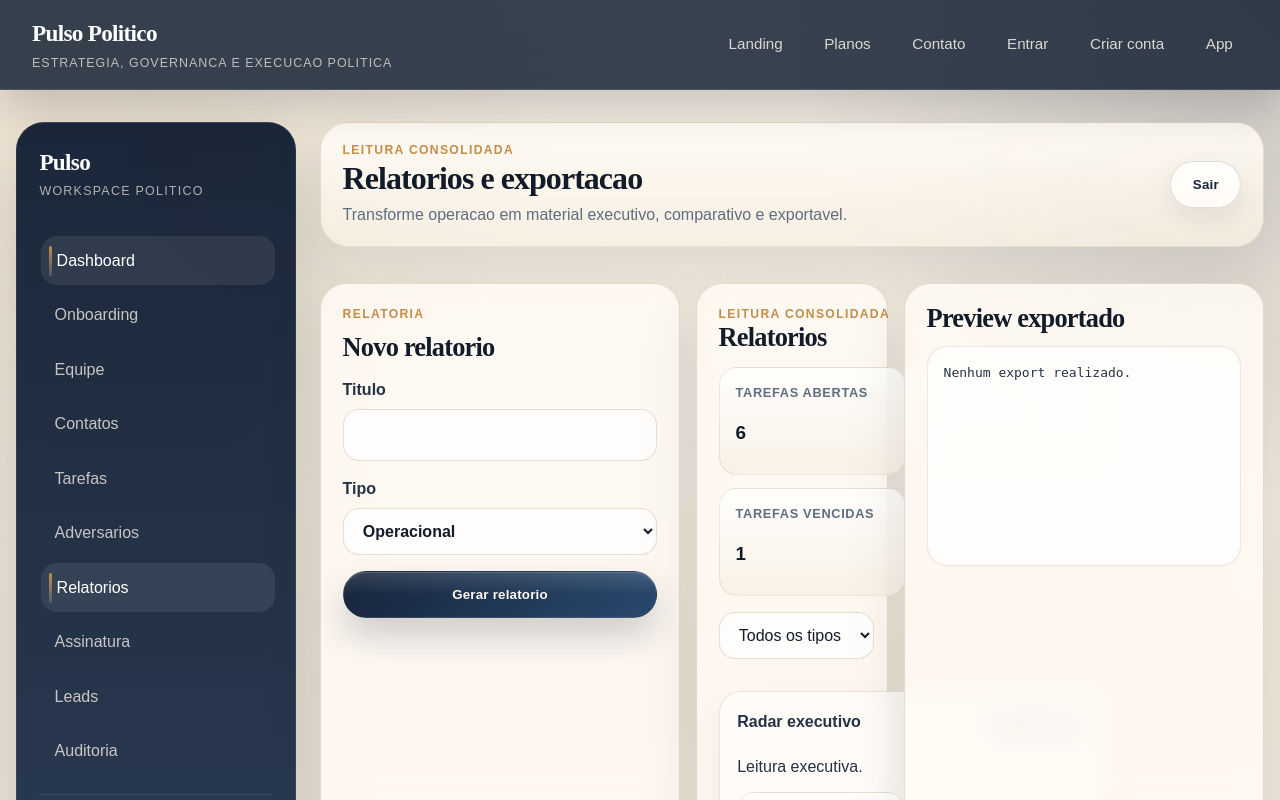
Test: App authenticated flows › filtra relatorios por tipo na area autenticada
expect the heading "Relatorios" is shown: met, box [719,322,826,352]
Select "Comparativo" in the dropdown showing "Todos os tipos" at (796, 636), box [719,612,874,659]
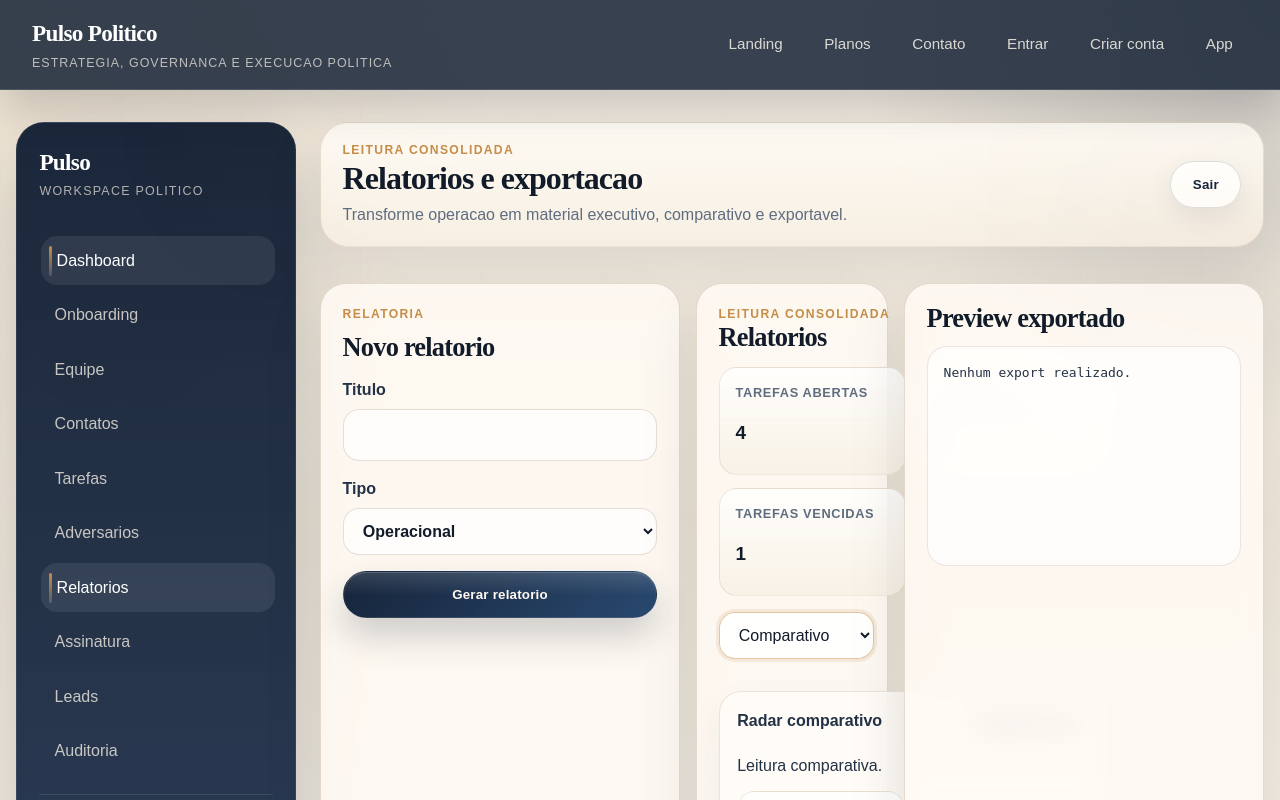
expect the text "Radar comparativo" is shown: met, box [737,710,882,734]
expect the text "Radar executivo" is gone: met
